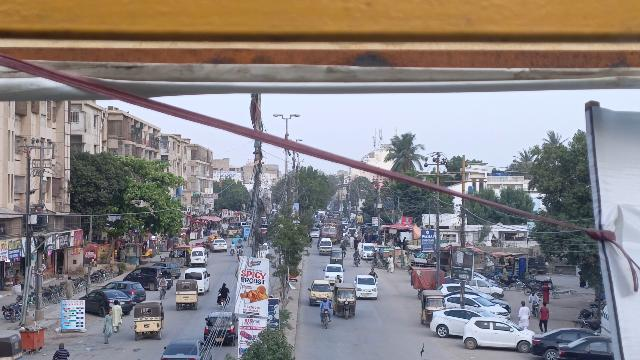Bike: (320, 308, 331, 329), (531, 300, 541, 319), (216, 296, 229, 309)
Car: (464, 315, 533, 353), (531, 329, 585, 358), (428, 307, 478, 338), (446, 293, 510, 317), (78, 289, 132, 317), (123, 266, 174, 292), (203, 311, 239, 346), (555, 338, 612, 360), (161, 339, 210, 360), (103, 281, 145, 302), (355, 275, 380, 300), (308, 278, 332, 304), (322, 264, 343, 281)
Person: (101, 308, 116, 346), (538, 301, 551, 331), (518, 300, 531, 328), (112, 300, 123, 332), (53, 341, 70, 360), (318, 295, 334, 312), (528, 288, 542, 306), (217, 281, 229, 298)
Rickshaw: (132, 301, 165, 340), (419, 289, 443, 327), (333, 283, 357, 320), (175, 279, 199, 311)
Van: (186, 268, 210, 295)
